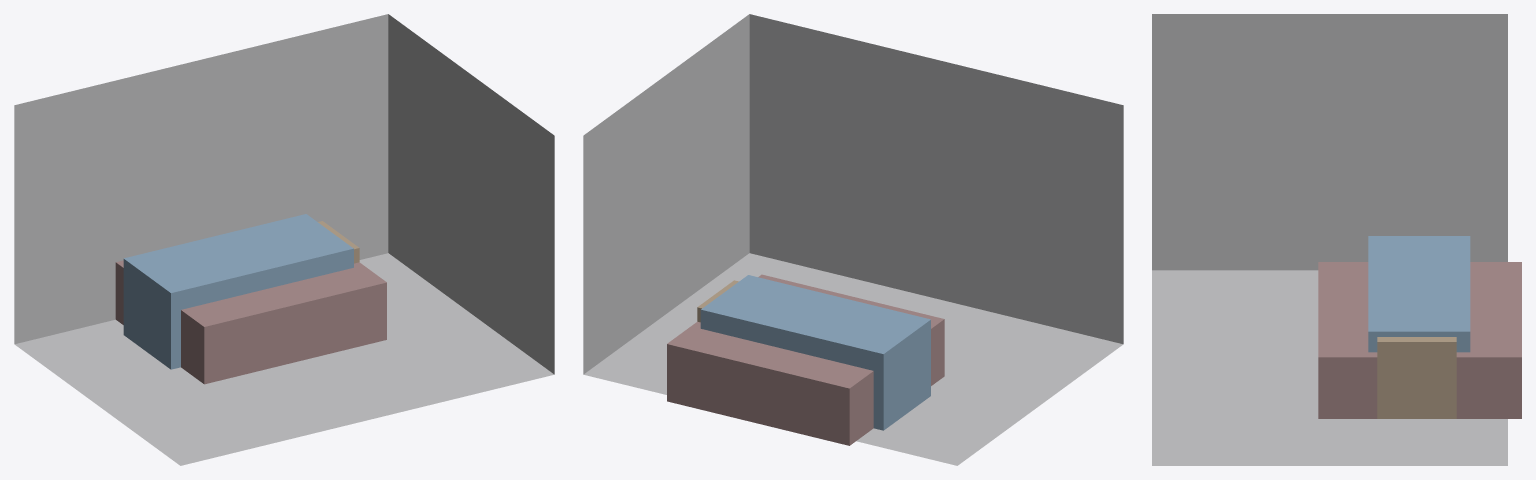
File: current_layout.glb
The picture shows the model from 3 angles, left to right: view 1: azimuth 30°, elevation 25°; view 2: azimuth 150°, elevation 25°; view 3: azimuth 270°, elevation 25°; orthographic projection. The views are drawn at different scales.
Parts seen in each view (by area): view 1: room, bed, sofa; view 2: room, bed, sofa; view 3: room, bed, sofa, desk.
Boxes of the visible parts, x1,y1,x2,y2 form: room: [14, 14, 554, 465]; bed: [115, 260, 386, 384]; sofa: [123, 214, 353, 369]; room: [583, 14, 1123, 465]; bed: [667, 274, 944, 445]; sofa: [700, 275, 930, 430]; room: [1152, 14, 1507, 465]; bed: [1318, 262, 1521, 418]; sofa: [1368, 236, 1470, 352]; desk: [1377, 337, 1456, 418].
Bounding box in the file's own units: 4.09 × 2.5 × 3.27.
